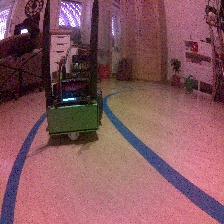rob: (45, 53, 103, 141)
